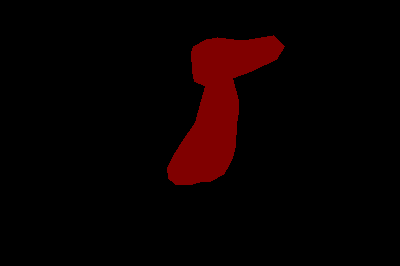fire: (167, 35, 284, 184)
